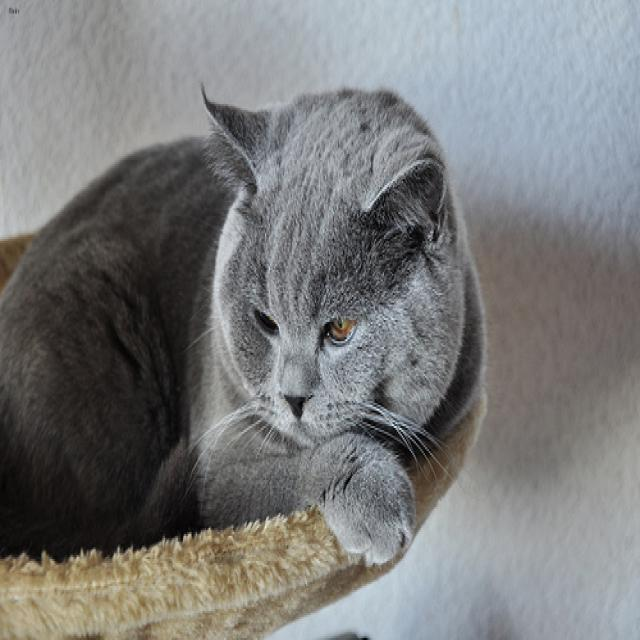British_Shorthair: (199, 85, 445, 443)
